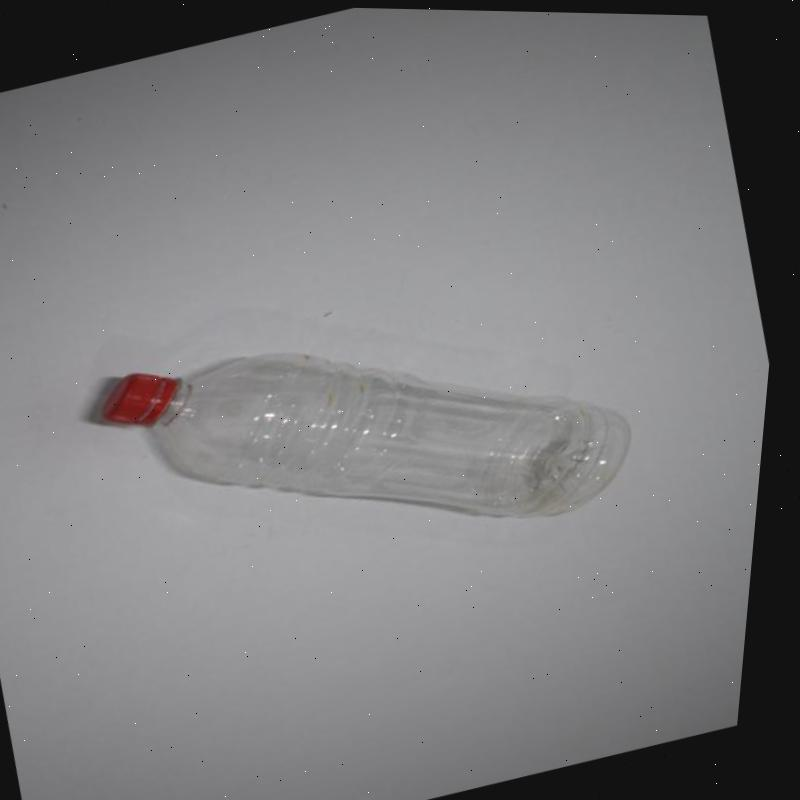botella: (82, 248, 668, 626)
